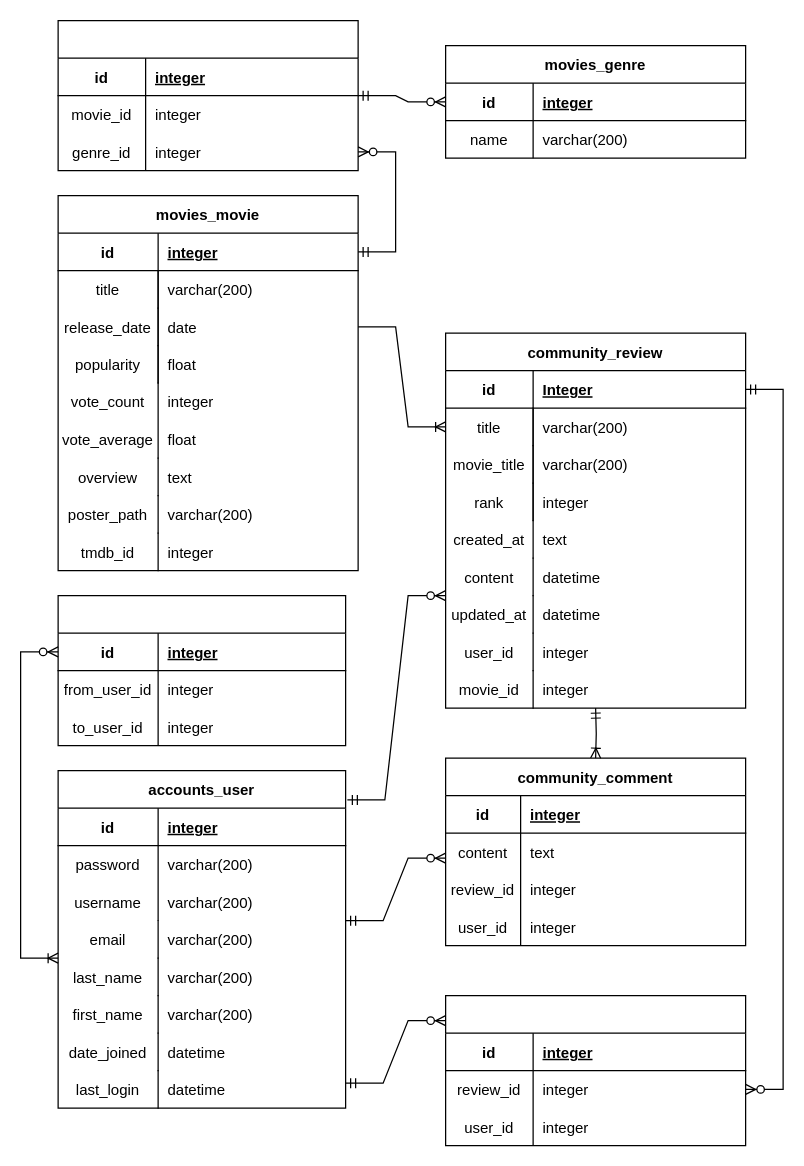
The diagram is 804 pixels wide and 1166 high, and some of its shapes have lost their labels. The box of each missing label's shape, as (x1, y1, x2, y2) in pixels:
accounts_user_followings: (57, 594, 346, 746)
community_review_like_users: (444, 994, 746, 1146)
movies_movie_genres: (57, 19, 358, 171)
